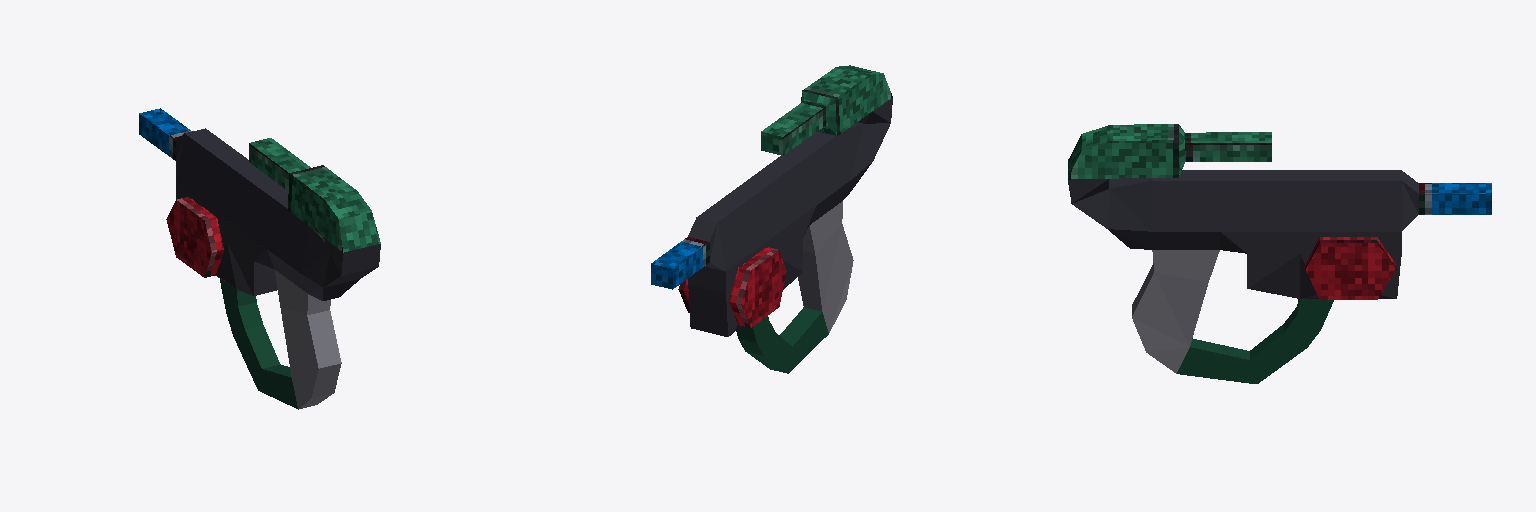
The picture shows the model from 3 angles: view 1: azimuth 30°, elevation 25°; view 2: azimuth 150°, elevation 25°; view 3: azimuth 270°, elevation 25°; orthographic projection.
Parts seen in each view (by area): view 1: Gun.001; view 2: Gun.001; view 3: Gun.001.
Part boxes in pixels (x1,y1,x2,y2): Gun.001: (139,108,380,409); Gun.001: (651,65,892,373); Gun.001: (1068,124,1491,383).
Size of the model in its own units: 0.067 by 0.2532 by 0.3929.
Materials: 1 (1 with a texture image).